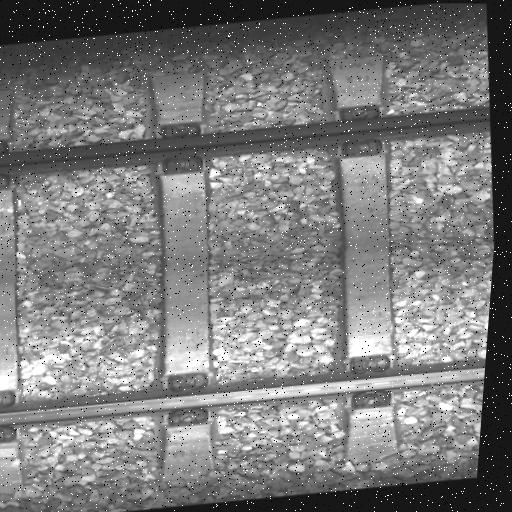clips: (331, 104, 386, 157), (343, 351, 392, 410), (162, 371, 212, 427), (155, 121, 206, 171), (0, 387, 20, 443), (0, 137, 9, 189)
sleepers: (297, 50, 435, 466), (119, 67, 253, 486), (0, 86, 55, 505)
